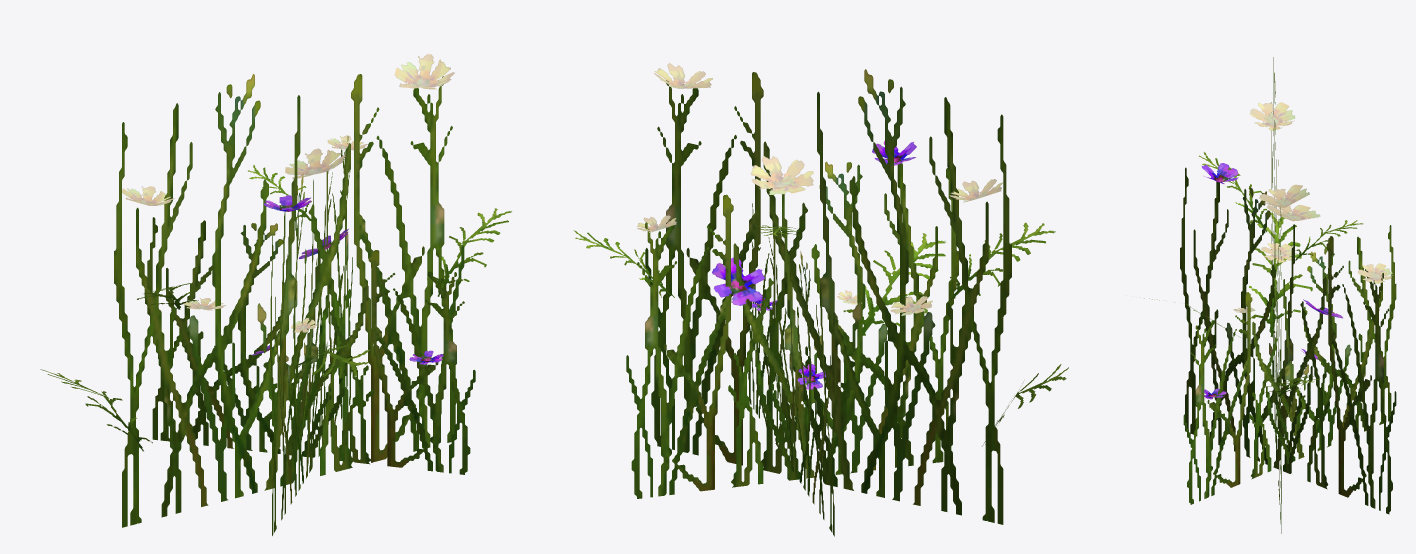
Rendered from qys_flower02.FBX.
3 renders of one model, left to right at view 1: azimuth 30°, elevation 25°; view 2: azimuth 150°, elevation 25°; view 3: azimuth 270°, elevation 25°, orthographic. The views are drawn at different scales.
Parts seen in each view (by area): view 1: qys_flower02; view 2: qys_flower02; view 3: qys_flower02.
Part boxes in pixels (left/top/right/bottom): qys_flower02: left=40, top=53, right=512, bottom=535; qys_flower02: left=573, top=62, right=1068, bottom=536; qys_flower02: left=1144, top=57, right=1396, bottom=533.
Size of the model in its own units: 104 by 85.16 by 60.08.
